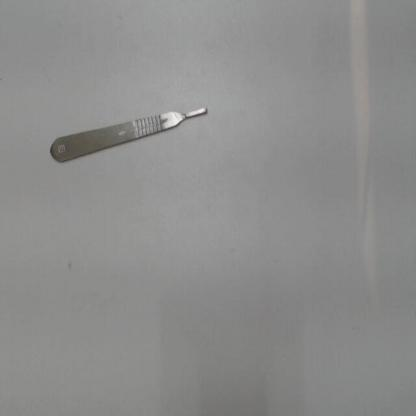No.3 BP Handle: (41, 102, 214, 172)
